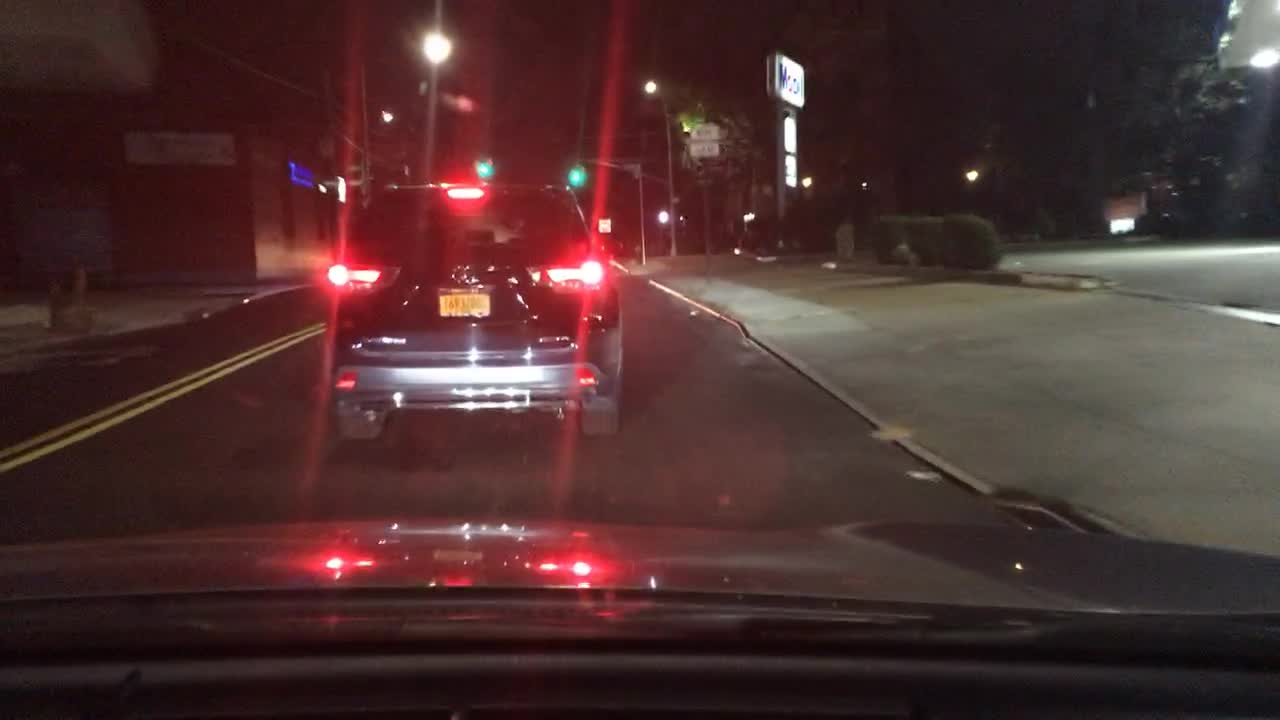car: (326, 177, 624, 444)
traffic light: (475, 153, 491, 181), (567, 162, 583, 189), (658, 210, 669, 223)
traffic sign: (596, 217, 612, 233)
